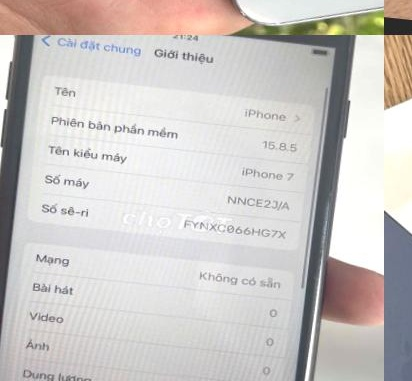scratch: (311, 177, 336, 283)
